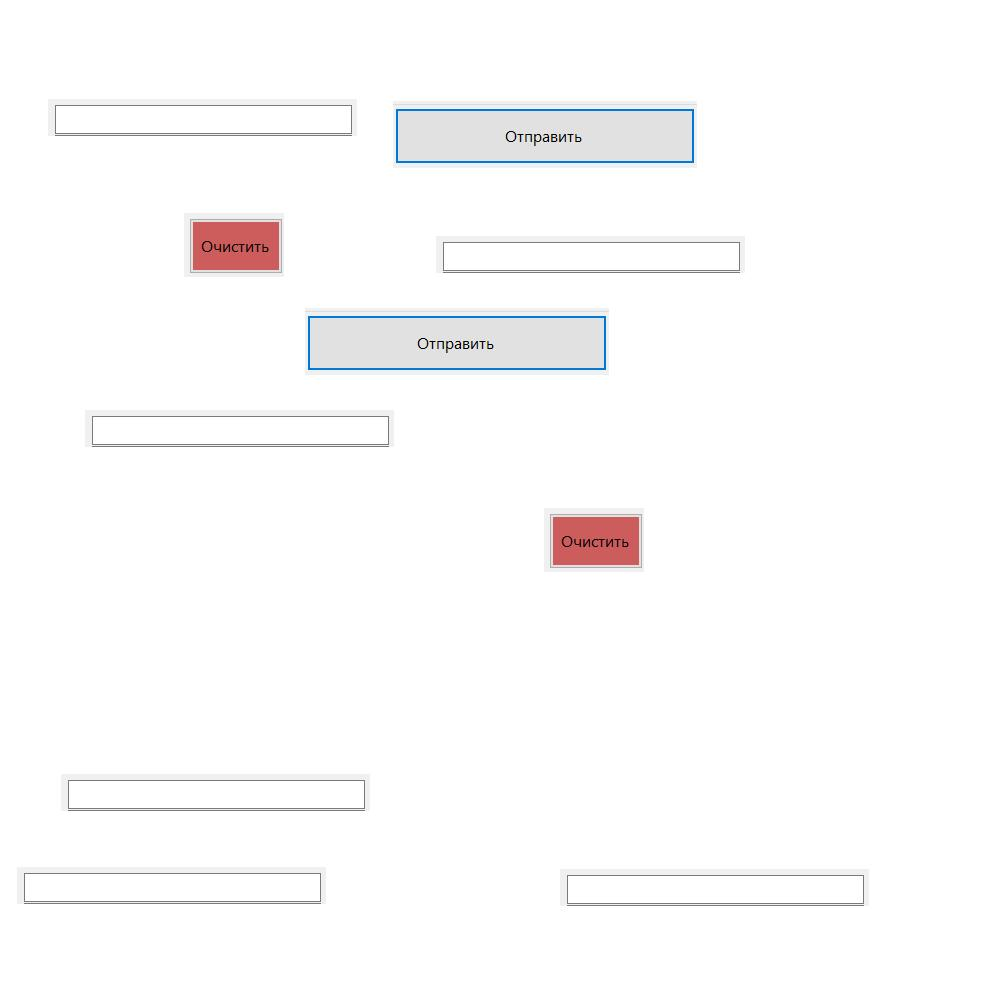Button: (393, 101, 697, 168), (305, 308, 609, 375), (544, 508, 644, 572), (184, 213, 284, 277)
EditText-: (560, 869, 869, 906), (17, 867, 326, 904), (436, 236, 745, 273), (61, 774, 370, 811), (48, 99, 357, 136), (85, 410, 394, 447)
